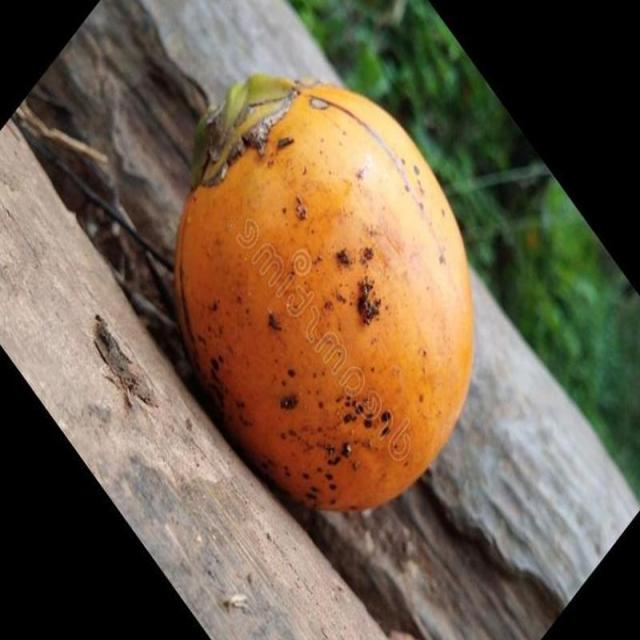good: (171, 74, 477, 514)
